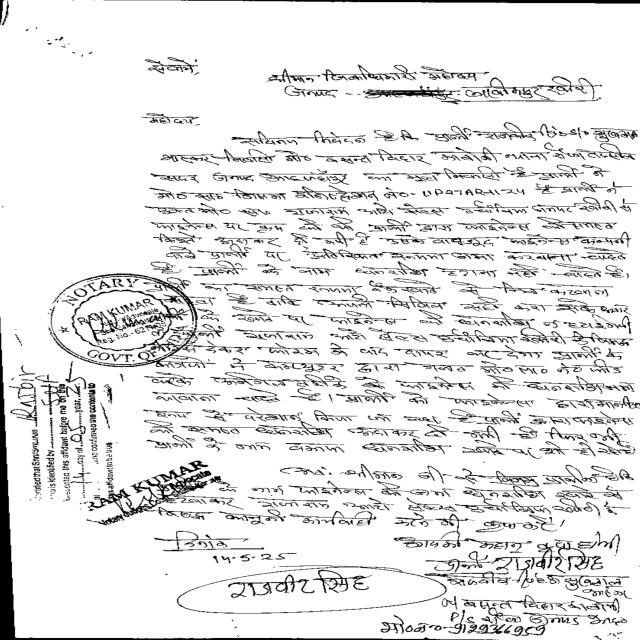logo: (46, 271, 197, 369)
namemohar: (75, 458, 234, 528)
